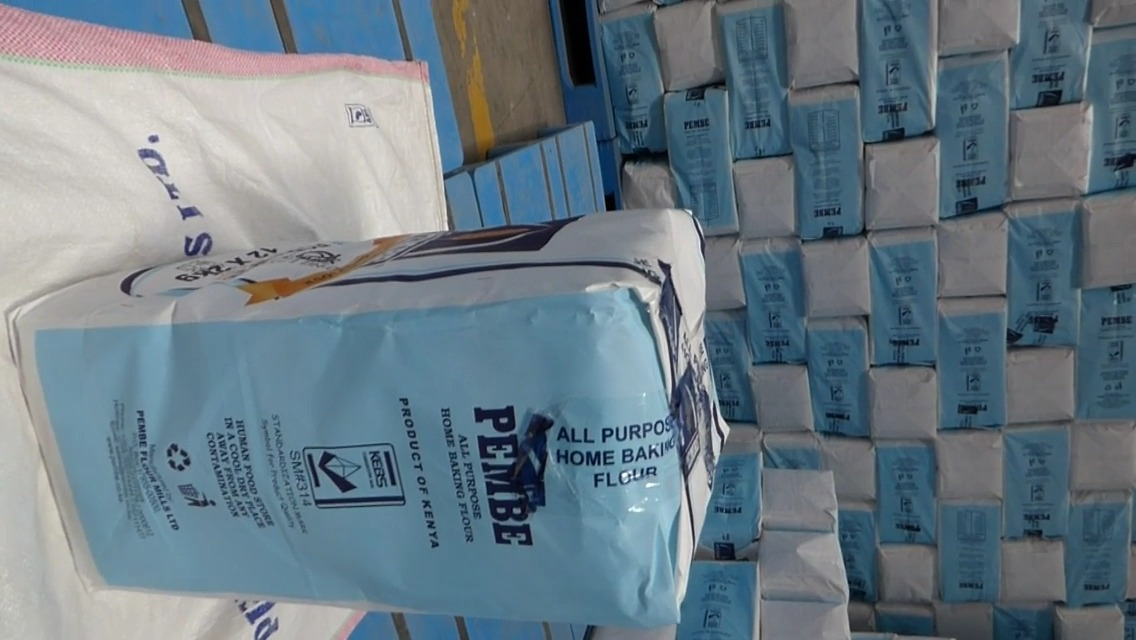wheat_flour_blue_label: (4, 201, 731, 613)
